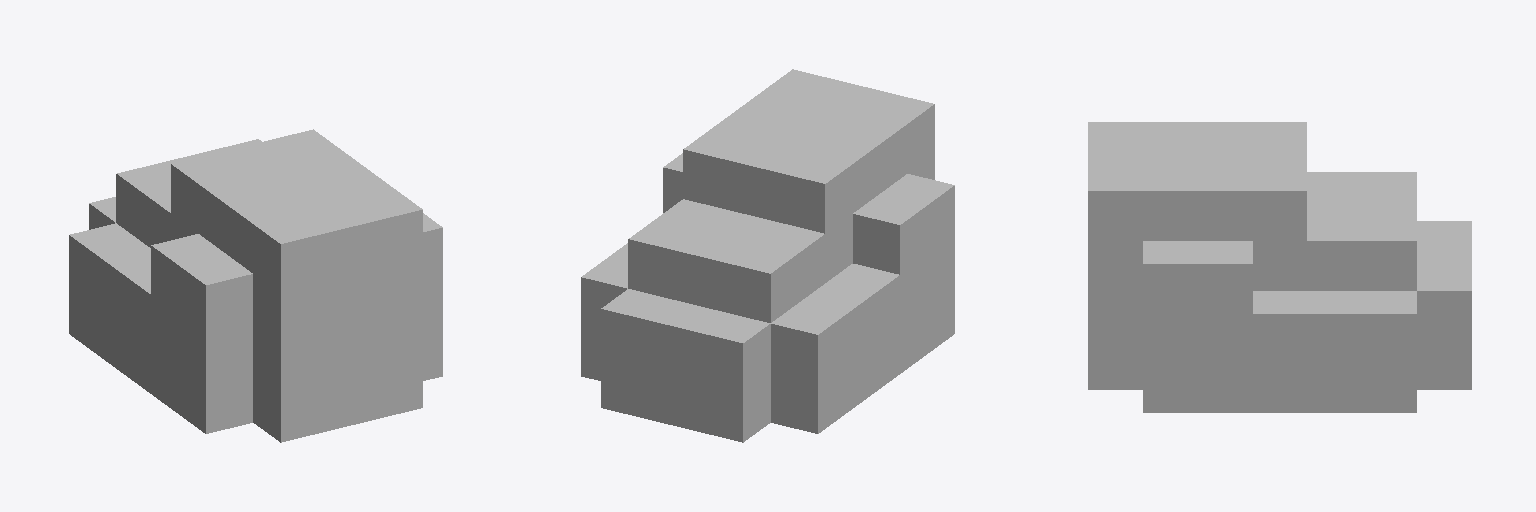
Rendered from foot.obj.
3 renders of one model, left to right at view 1: azimuth 30°, elevation 25°; view 2: azimuth 150°, elevation 25°; view 3: azimuth 270°, elevation 25°, orthographic.
Visible parts, largest first — view 1: object 1; view 2: object 1; view 3: object 1.
Part boxes in pixels (x1,y1,x2,y2): object 1: (69, 129, 442, 442); object 1: (581, 69, 954, 442); object 1: (1088, 122, 1471, 412).
Bounding box in the file's own units: 0.5 × 0.4 × 0.7.